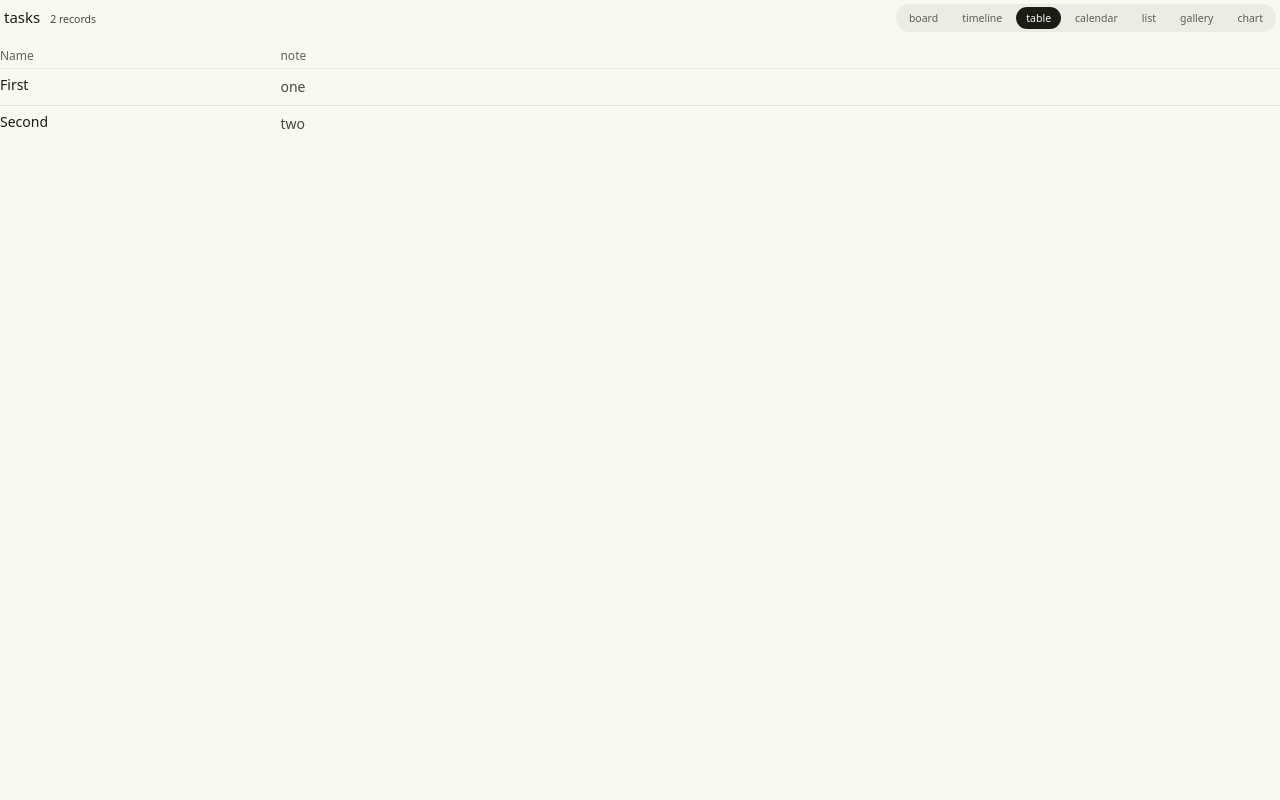
Test case: table — a row opens its record in the peek › clicking a row’s cell padding selects it and opens its peek
The width and height of the screenshot is (1280, 800).
Click the 1st cell showing "First" at (140, 87), box [0, 68, 280, 106]
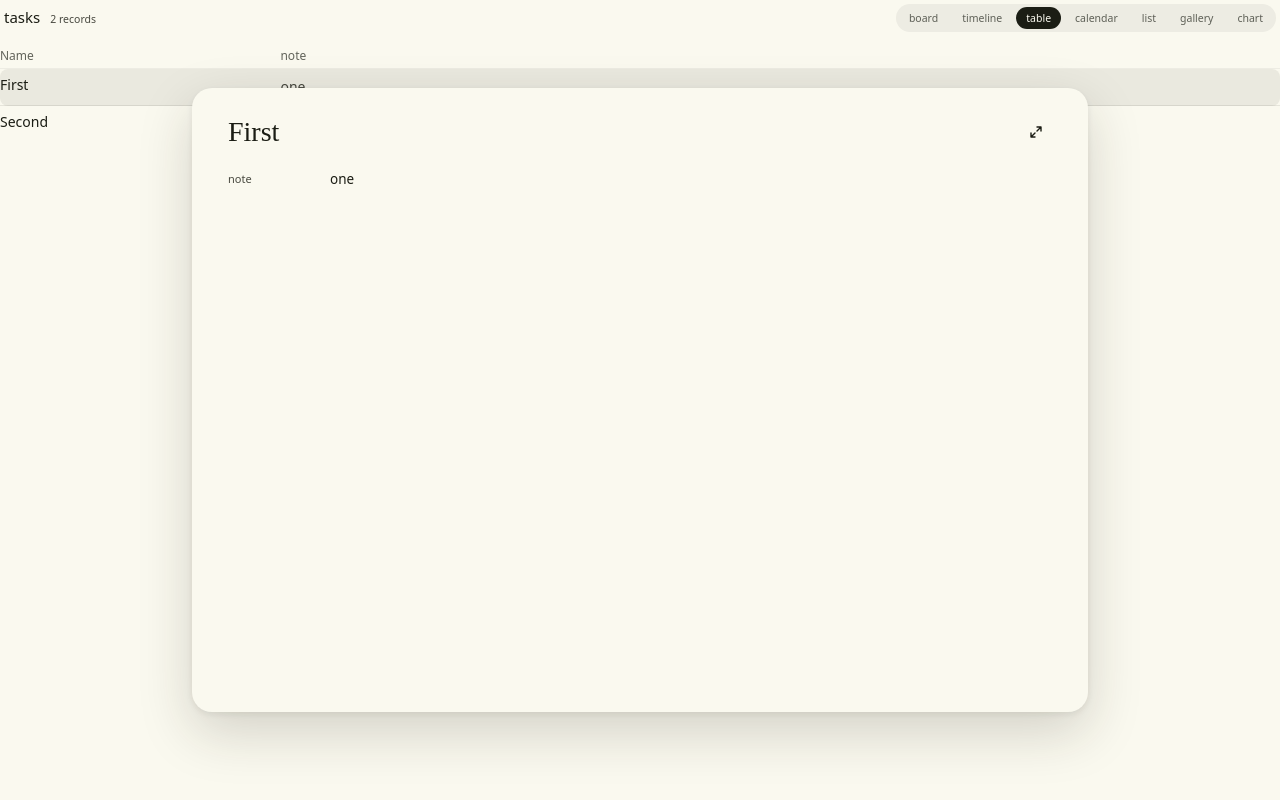
Expected: the element named "Record: First" is shown, [192, 88, 1088, 712]
